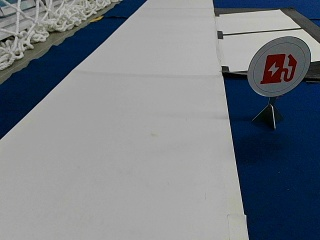battery: (245, 34, 309, 97)
